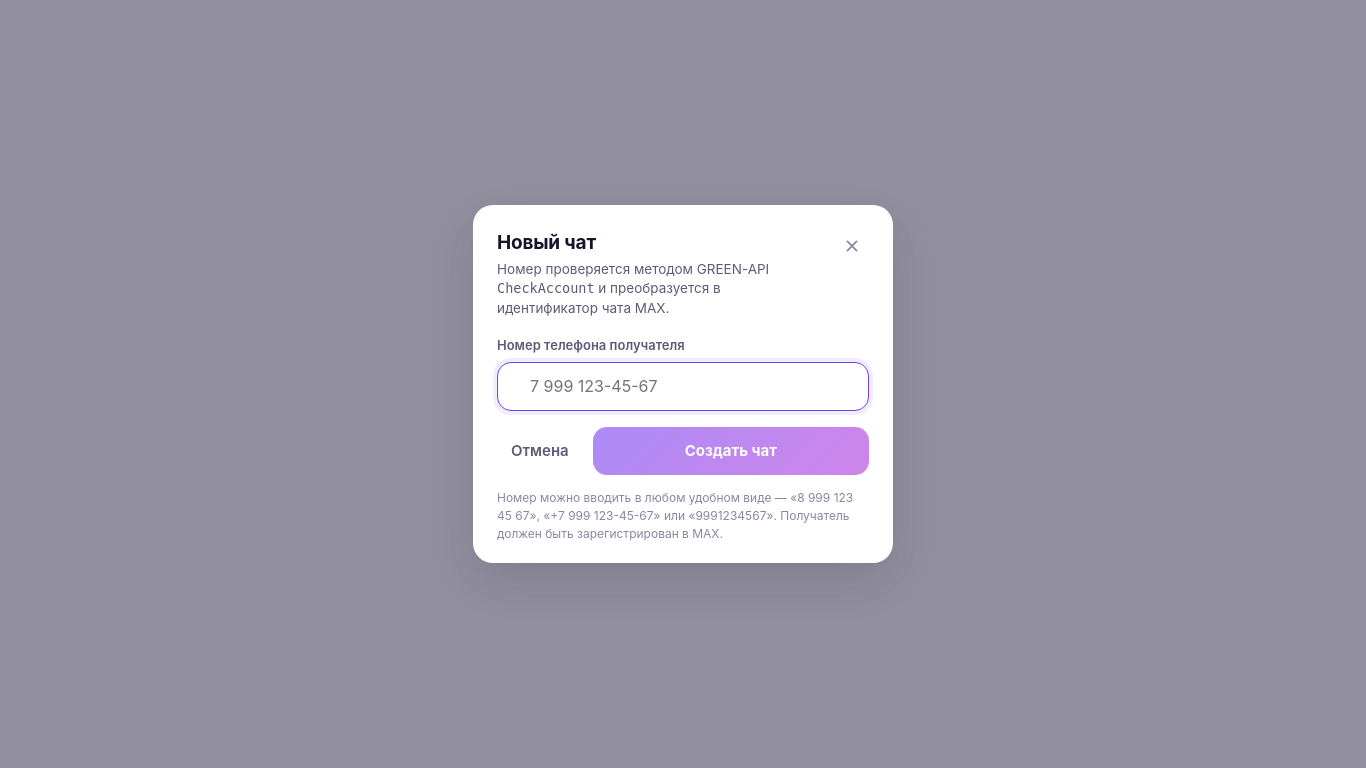
NewChatDialog › не передаёт некорректный номер в CheckAccount
Type "12345" into the field labelled "Номер телефона получателя". click: (683, 387)
box: [497,362,869,411]
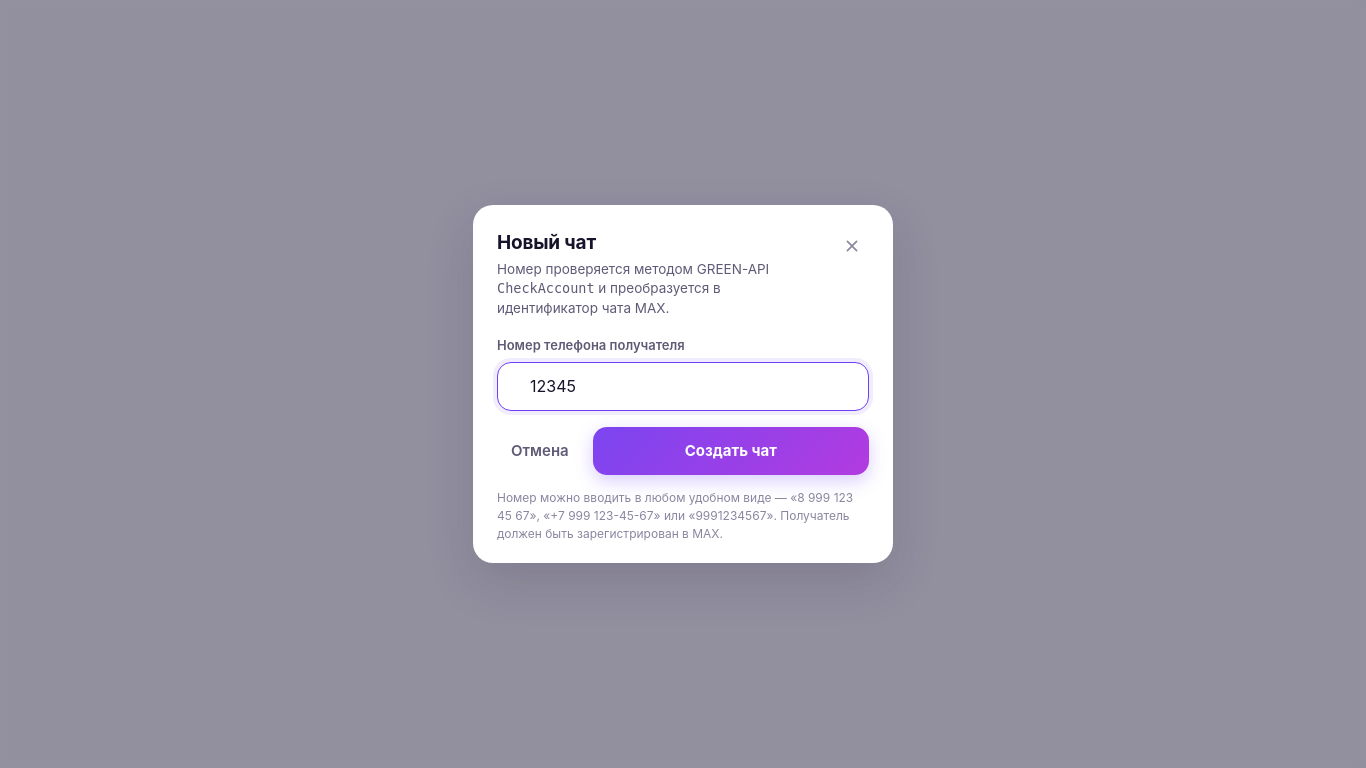
Click the button "Создать чат". click: click(731, 451)
box: [593,427,869,475]
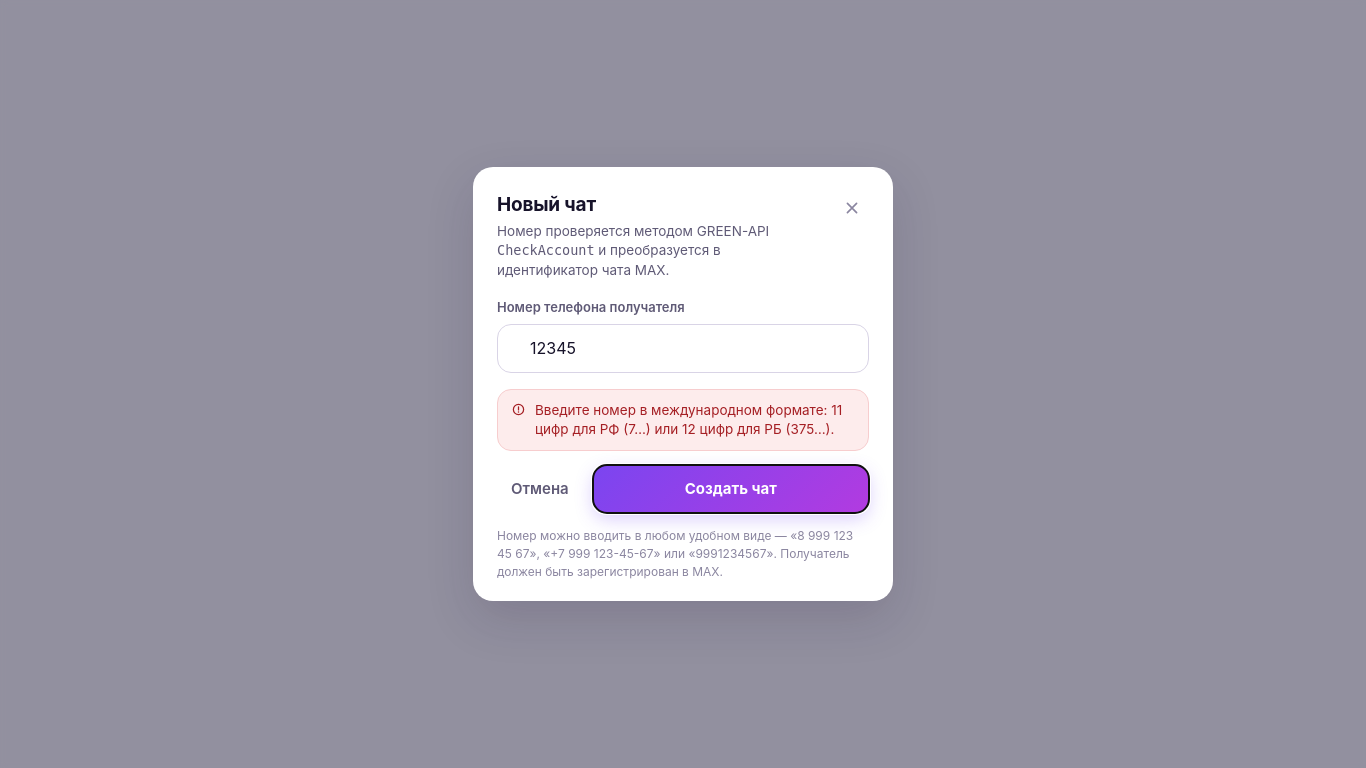
Check: the message shows "международном формате", box [535,402,842,437]
